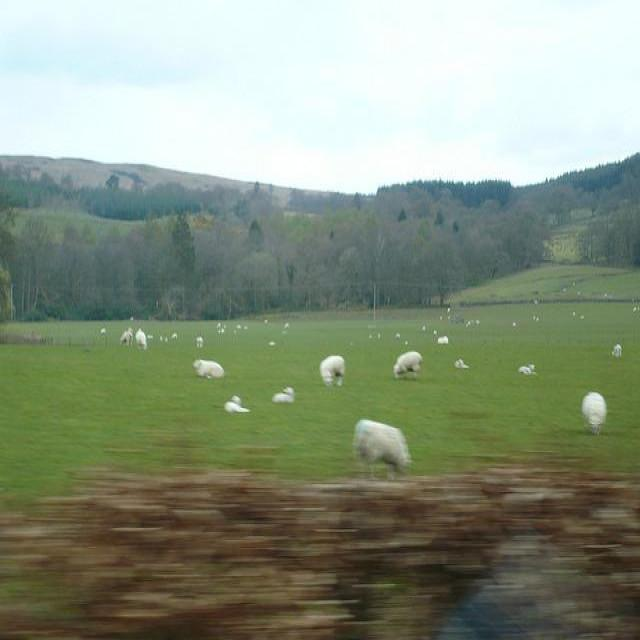Sheep: (96, 277, 639, 355), (354, 420, 413, 481)
